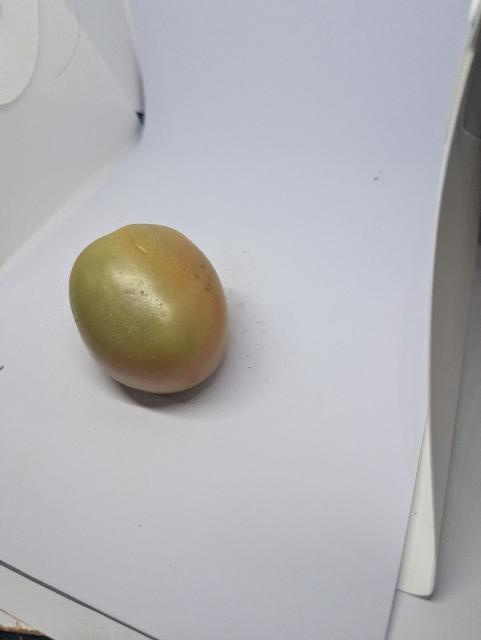breaker: (66, 220, 235, 397)
